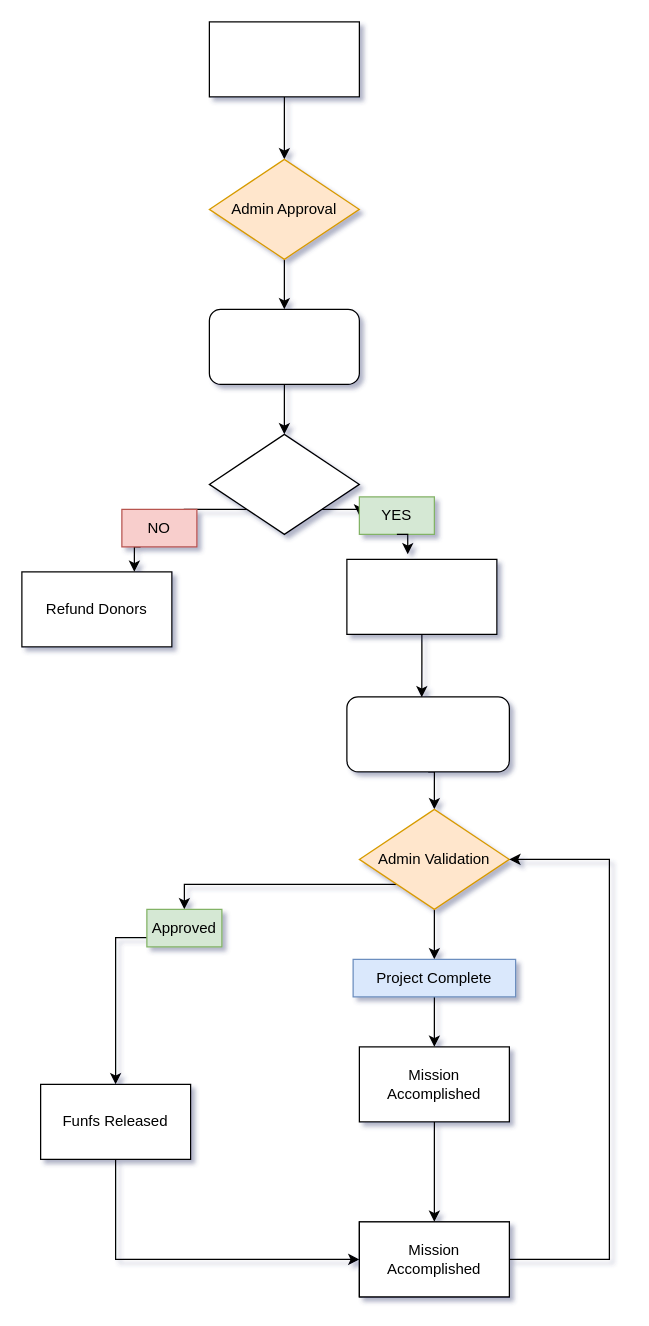
Image size: 649x1326. Some labels were removed from this diagram. Each missing label, with the box of its shape:
First Milestone: (346, 696, 509, 772)
Fundraising: (208, 308, 359, 384)
Funds Secured: (346, 558, 497, 634)
Goal Reached: (208, 433, 359, 534)
Project Submission: (208, 21, 359, 97)
